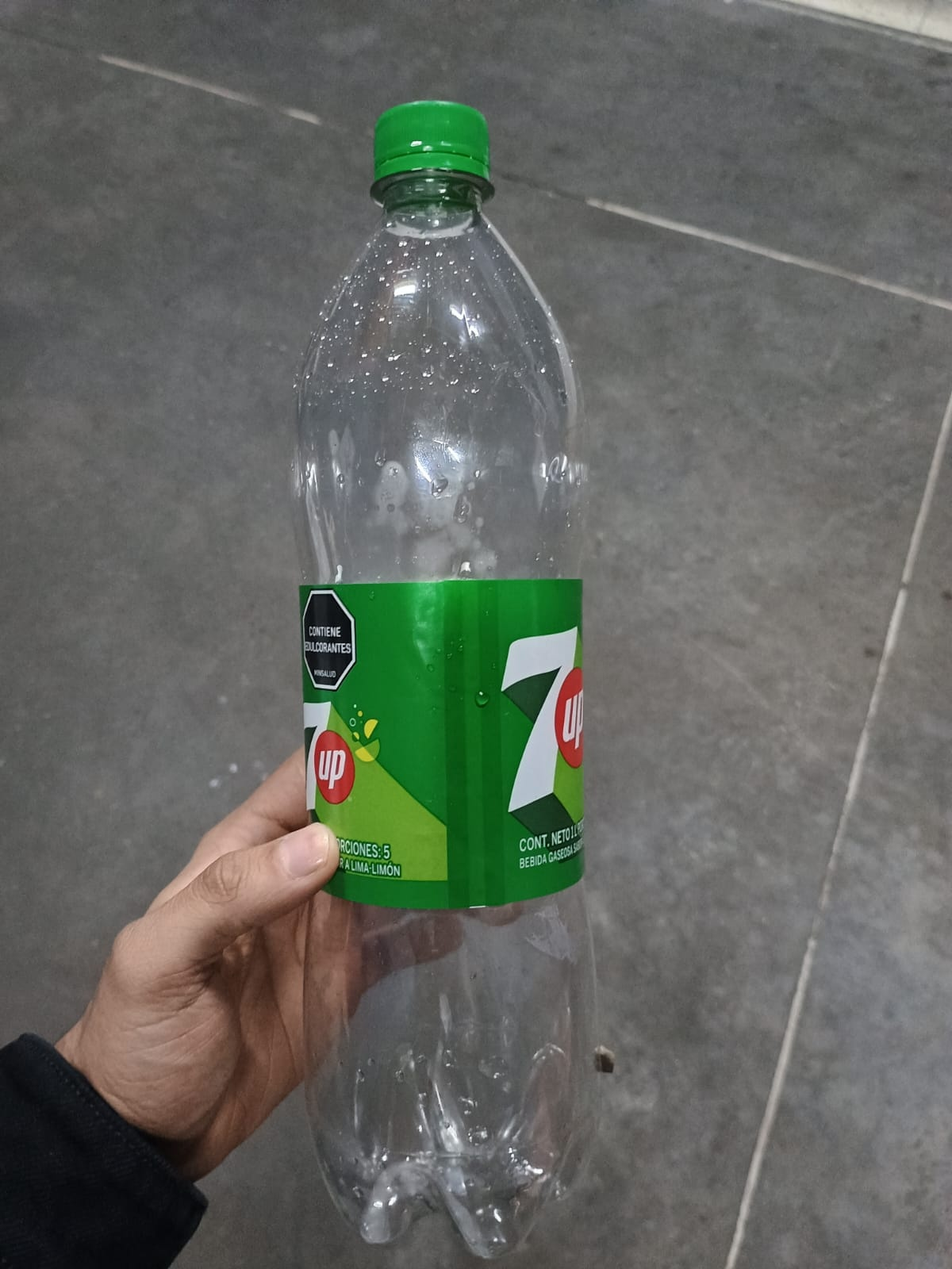Plastico: (290, 97, 591, 1262)
